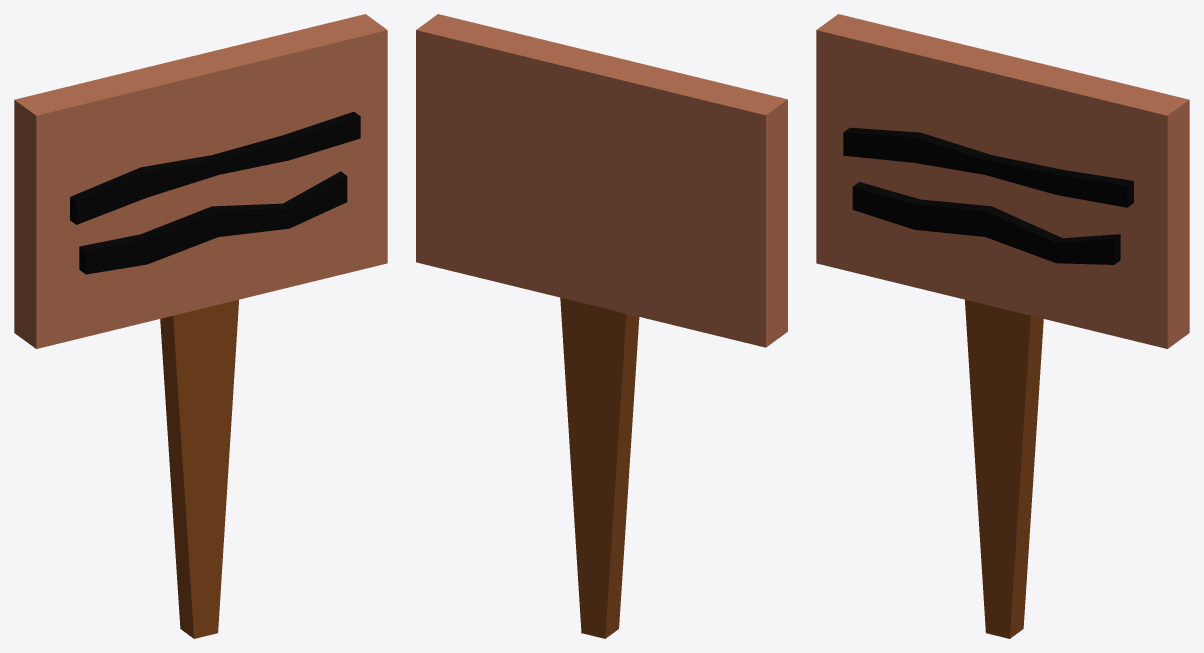
Rendered from Sellers Price Notice 01.fbx.
3 views of the same model, side by side, from view 1: azimuth 30°, elevation 25°; view 2: azimuth 150°, elevation 25°; view 3: azimuth 330°, elevation 25° (orthographic).
Visible parts, largest first — view 1: Sellers Price Notice 01; view 2: Sellers Price Notice 01; view 3: Sellers Price Notice 01.
Part boxes in pixels (x1,y1,x2,y2): Sellers Price Notice 01: (14,14,387,638); Sellers Price Notice 01: (416,14,787,638); Sellers Price Notice 01: (816,14,1189,638).
Bounding box in the file's own units: 53.58 × 82.7 × 7.54.
